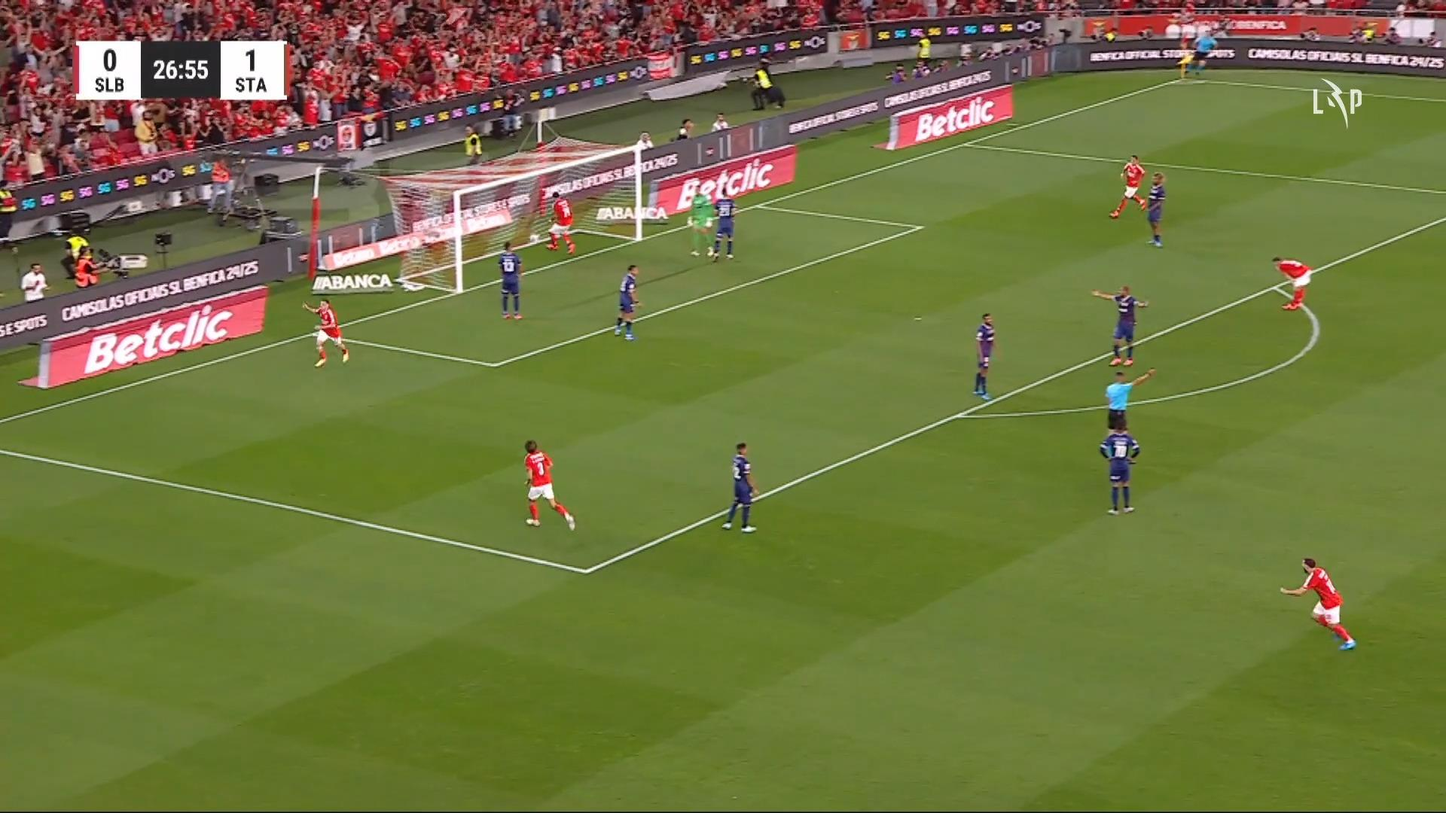ball: (530, 234, 539, 243)
goalkeeper: (685, 185, 714, 257)
player: (1279, 556, 1356, 650), (522, 439, 575, 531), (1091, 284, 1149, 366), (1098, 419, 1139, 514), (300, 297, 349, 367), (721, 441, 758, 532), (1108, 154, 1146, 219), (1271, 255, 1312, 310), (613, 263, 642, 340), (972, 312, 996, 399), (497, 240, 523, 320), (710, 188, 737, 261), (545, 189, 575, 253), (1144, 171, 1166, 247)
referee: (1103, 366, 1156, 431), (1192, 26, 1217, 76)
